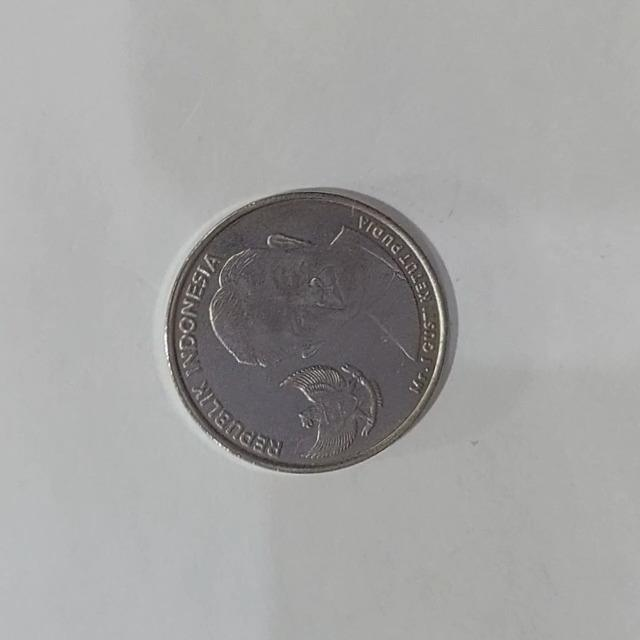Rp100: (162, 185, 455, 474)
